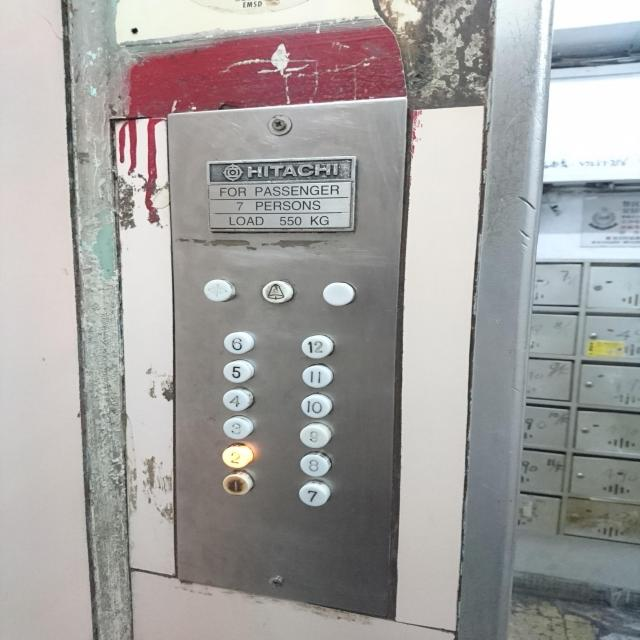1: (220, 469, 256, 497)
10: (299, 392, 333, 420)
11: (300, 362, 335, 390)
12: (298, 332, 335, 360)
2: (220, 442, 254, 470)
3: (220, 414, 254, 441)
4: (221, 386, 254, 412)
5: (222, 357, 256, 384)
6: (220, 328, 258, 356)
7: (297, 479, 332, 508)
8: (298, 450, 332, 478)
9: (298, 421, 333, 450)
alarm: (258, 278, 295, 304)
empty: (319, 280, 357, 307)
keyhole: (268, 576, 284, 588)
open: (201, 277, 238, 304)
